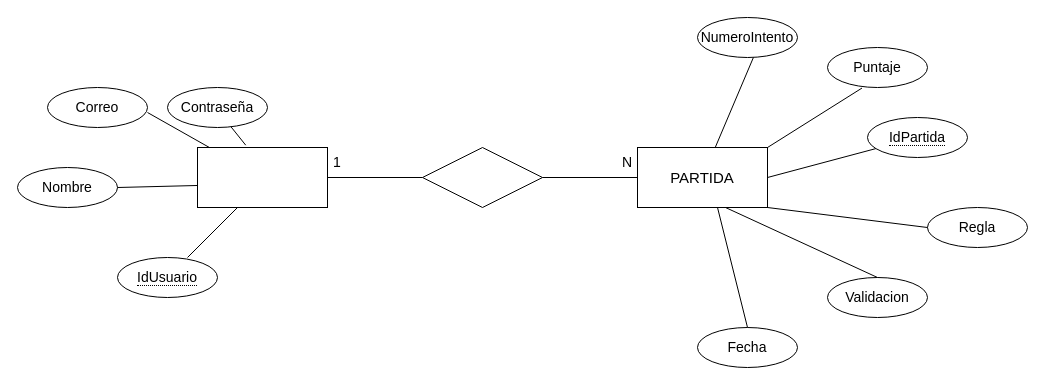
Image size: 1045x385. Some labels were removed from this diagram. The shapes that lost their labels are listed below. From the top down, each one's box as (x1, y1, x2, y2) in pixels, then its label:
(196, 146, 328, 208): USUARIO
(422, 146, 542, 208): Puede Tener
